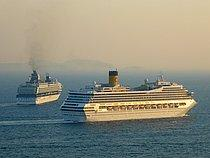Ship: (60, 67, 203, 126), (15, 68, 64, 108)
